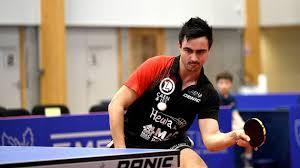ball_pingpong: (157, 102, 167, 111)
